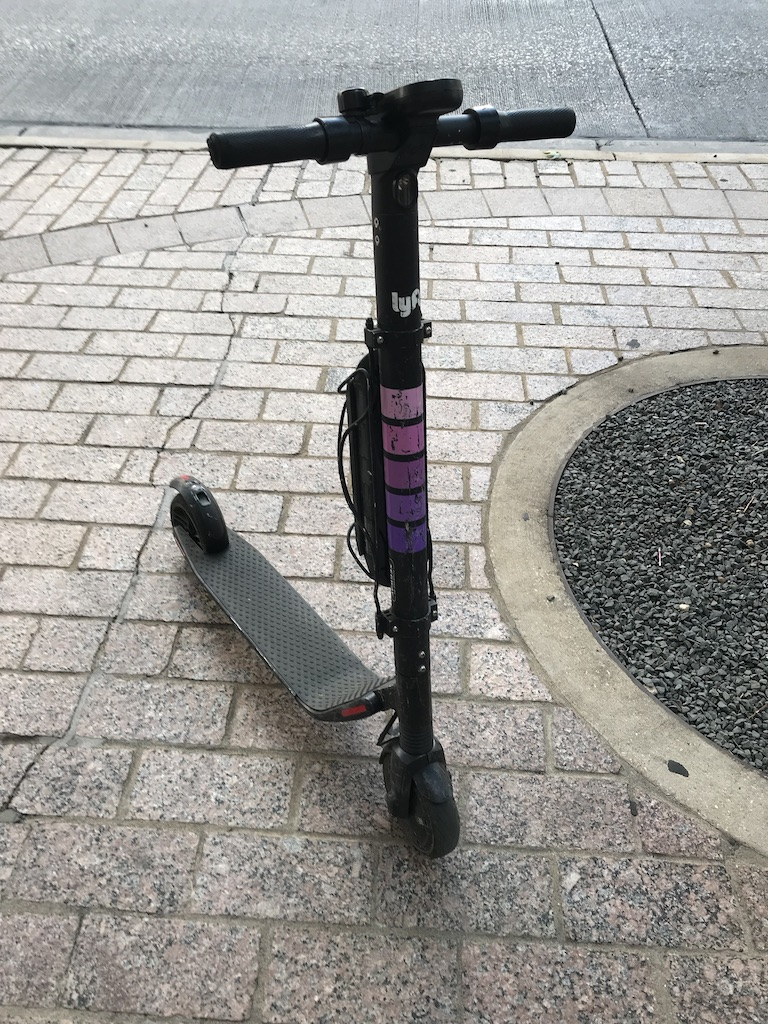scooter: (166, 79, 581, 860)
